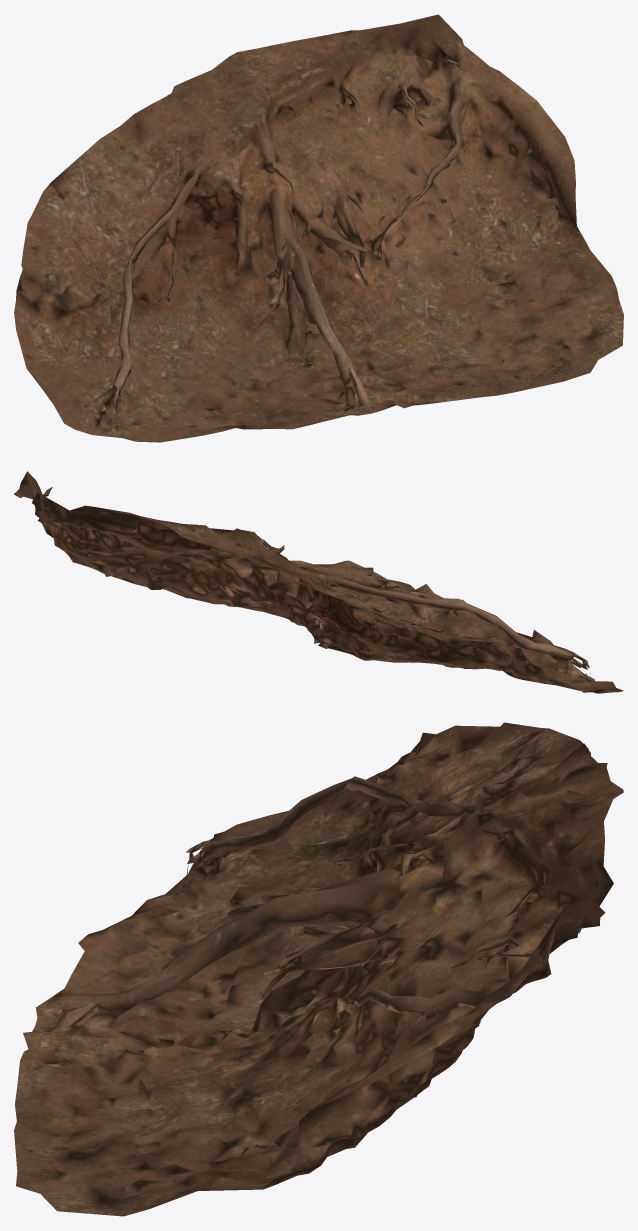
The model's file is root_cluster_01.gltf.
The picture shows the model from 3 angles, top to bottom: view 1: azimuth 30°, elevation 25°; view 2: azimuth 150°, elevation 25°; view 3: azimuth 270°, elevation 25°; orthographic projection. The views are drawn at different scales.
Visible parts, largest first — view 1: root_cluster_01; view 2: root_cluster_01; view 3: root_cluster_01.
Part boxes in pixels (left/top/right/bottom): root_cluster_01: left=14, top=14, right=623, bottom=442; root_cluster_01: left=14, top=471, right=623, bottom=693; root_cluster_01: left=14, top=722, right=623, bottom=1216.
Bounding box in the file's own units: 4.12 × 1.51 × 2.68.
1 material, 1 textured.
